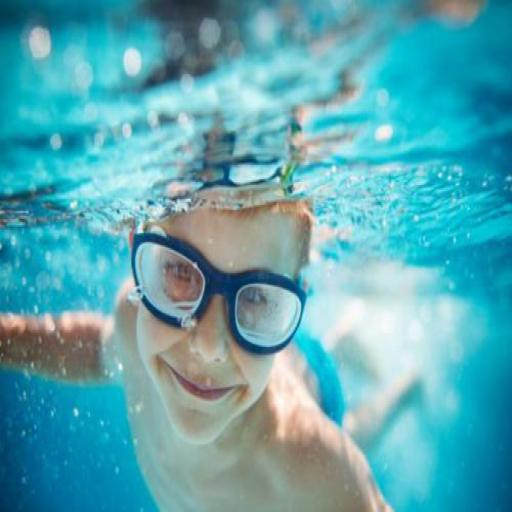swimming: (0, 178, 404, 510)
